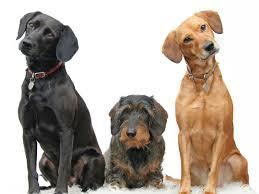Dog: (14, 10, 80, 67), (161, 9, 225, 66), (108, 93, 170, 148)
